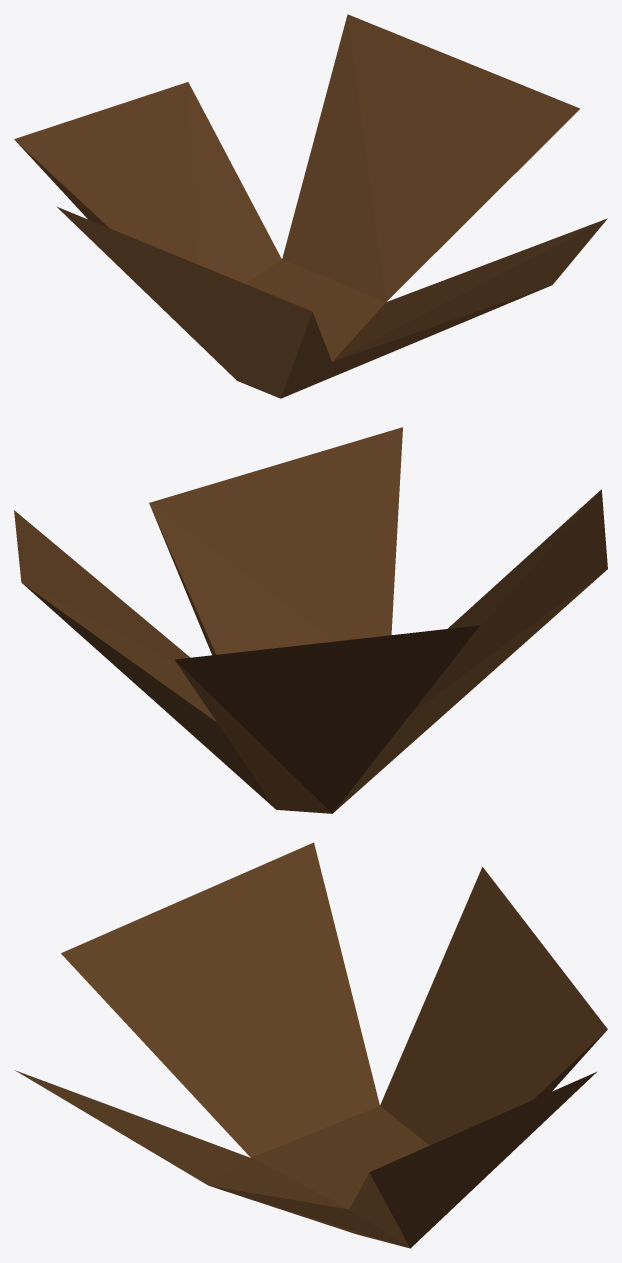
File: SM_Flower_Daisy_Floating_Single_Mature_A.fbx
3 renders of one model, top to bottom at view 1: azimuth 30°, elevation 25°; view 2: azimuth 150°, elevation 25°; view 3: azimuth 270°, elevation 25°, orthographic. The views are drawn at different scales.
Visible parts, largest first — view 1: flower-daisy-floating-single-mature-a; view 2: flower-daisy-floating-single-mature-a; view 3: flower-daisy-floating-single-mature-a.
Part boxes in pixels (bbox=[...]): flower-daisy-floating-single-mature-a: bbox=[14, 14, 607, 398]; flower-daisy-floating-single-mature-a: bbox=[14, 427, 607, 813]; flower-daisy-floating-single-mature-a: bbox=[15, 842, 607, 1248].
Size of the model in its own units: 0.1302 by 0.0604 by 0.12.
